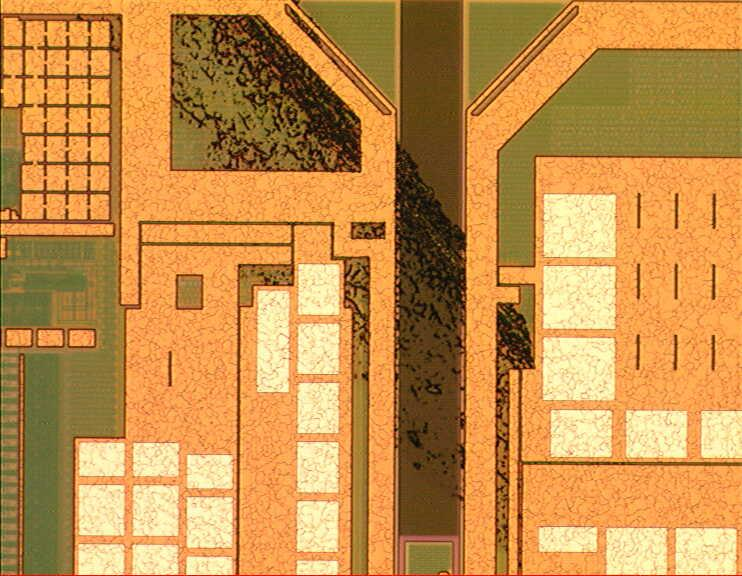SCRATCH: (172, 2, 537, 560)
